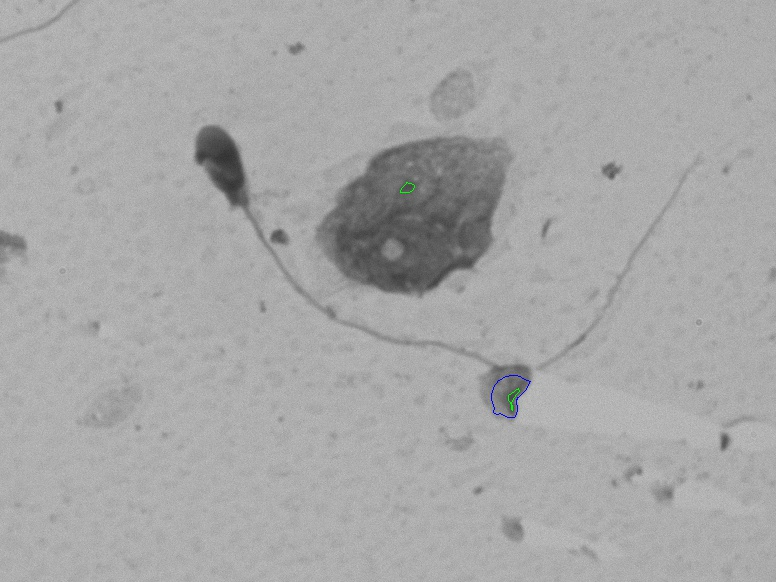Abnormal: (172, 109, 729, 390)
